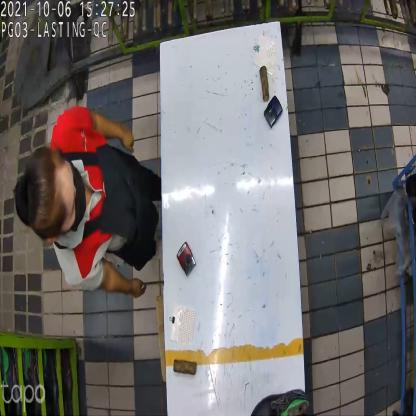stamp: (264, 94, 285, 128), (174, 245, 197, 276)
